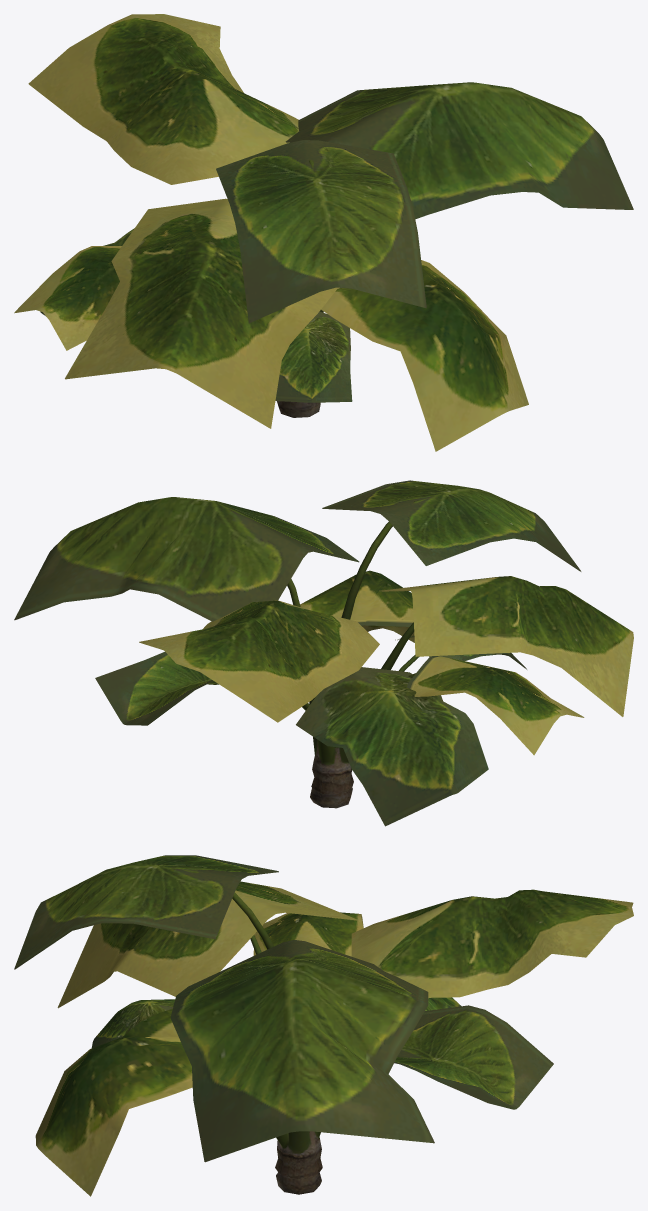
Rendered from sm10_029_tropicalplant04a.fbx.
3 views of the same model, one above another, from view 1: azimuth 30°, elevation 25°; view 2: azimuth 150°, elevation 25°; view 3: azimuth 270°, elevation 25° (orthographic). The views are drawn at different scales.
Visible parts, largest first — view 1: LOD_1_Group_1_Sub_1__sm10_029_TropicalPlant04A_mt_Mat__Env_A, LOD_1_Group_0_Sub_1__sm10_029_TropicalPlant04A_mt; view 2: LOD_1_Group_1_Sub_1__sm10_029_TropicalPlant04A_mt_Mat__Env_A, LOD_1_Group_0_Sub_1__sm10_029_TropicalPlant04A_mt; view 3: LOD_1_Group_1_Sub_1__sm10_029_TropicalPlant04A_mt_Mat__Env_A, LOD_1_Group_0_Sub_1__sm10_029_TropicalPlant04A_mt.
Boxes of the visible parts, x1,y1,x2,y2 form: LOD_1_Group_1_Sub_1__sm10_029_TropicalPlant04A_mt_Mat__Env_A: (14, 14, 633, 451); LOD_1_Group_0_Sub_1__sm10_029_TropicalPlant04A_mt: (277, 159, 323, 417); LOD_1_Group_1_Sub_1__sm10_029_TropicalPlant04A_mt_Mat__Env_A: (14, 480, 633, 826); LOD_1_Group_0_Sub_1__sm10_029_TropicalPlant04A_mt: (207, 498, 427, 808); LOD_1_Group_1_Sub_1__sm10_029_TropicalPlant04A_mt_Mat__Env_A: (14, 855, 633, 1196); LOD_1_Group_0_Sub_1__sm10_029_TropicalPlant04A_mt: (182, 869, 322, 1194).
Bounding box in the file's own units: 2.39 × 1.18 × 2.23.
